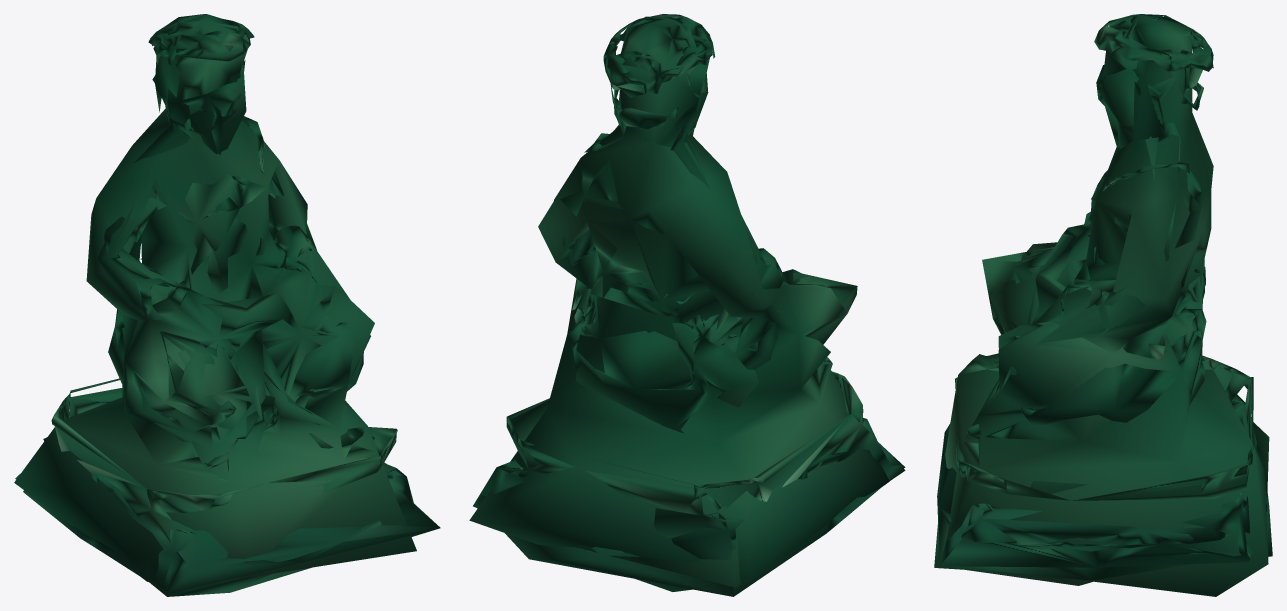
The model's file is gen3d-jade-statue-lod0.glb.
3 views of the same model, side by side, from view 1: azimuth 30°, elevation 25°; view 2: azimuth 150°, elevation 25°; view 3: azimuth 270°, elevation 25° (orthographic). The views are drawn at different scales.
Parts seen in each view (by area): view 1: part_0; view 2: part_0; view 3: part_0.
Part boxes in pixels (x1,y1,x2,y2): part_0: (14, 14, 440, 596); part_0: (469, 14, 905, 596); part_0: (934, 14, 1272, 596).
Size of the model in its own units: 0.6018 by 1 by 0.602.
